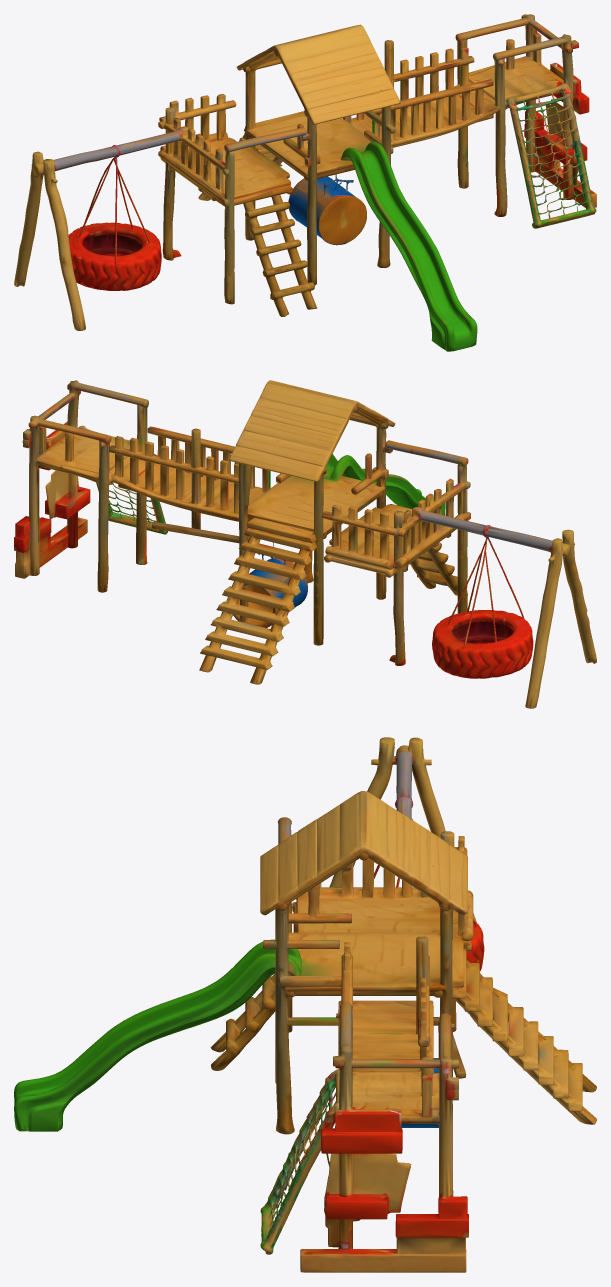
File: classic-1018.glb
3 renders of one model, top to bottom at view 1: azimuth 30°, elevation 25°; view 2: azimuth 150°, elevation 25°; view 3: azimuth 270°, elevation 25°, orthographic. The views are drawn at different scales.
Parts seen in each view (by area): view 1: material; view 2: material; view 3: material.
Part boxes in pixels (<box>): material: <box>14,14,596,351</box>; material: <box>14,380,596,708</box>; material: <box>14,737,596,1272</box>.
Bounding box in the file's own units: 1.05 × 0.4246 × 0.7614.
Materials: 1 (1 with a texture image).
